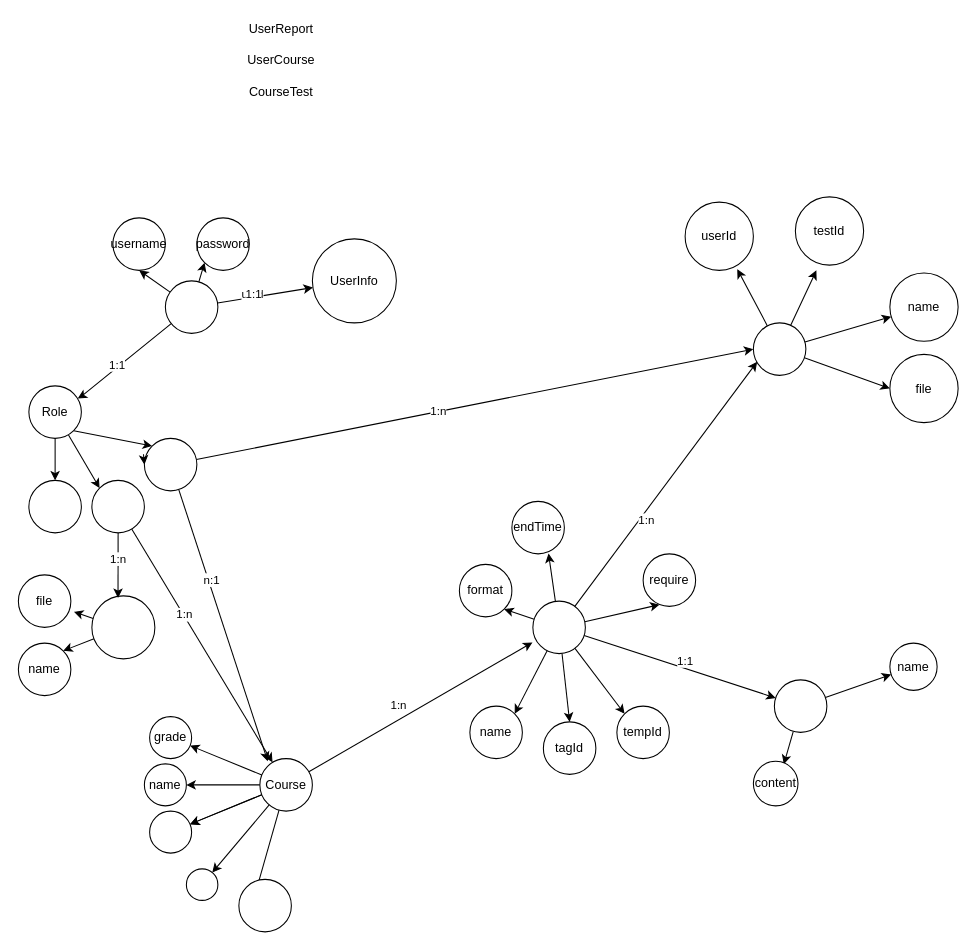
Image size: 976x951. Some labels were removed from this diagram. The shapes that lost their labels are listed below. From the top down, each one's centre as x and y in pixels, then its label:
[191,306]: User
[779,348]: Report
[170,464]: Student
[54,506]: Admin
[117,506]: Teacher
[123,627]: Template
[558,627]: Test
[800,705]: SelfTag
[170,831]: major
[201,884]: code
[264,905]: createAt
